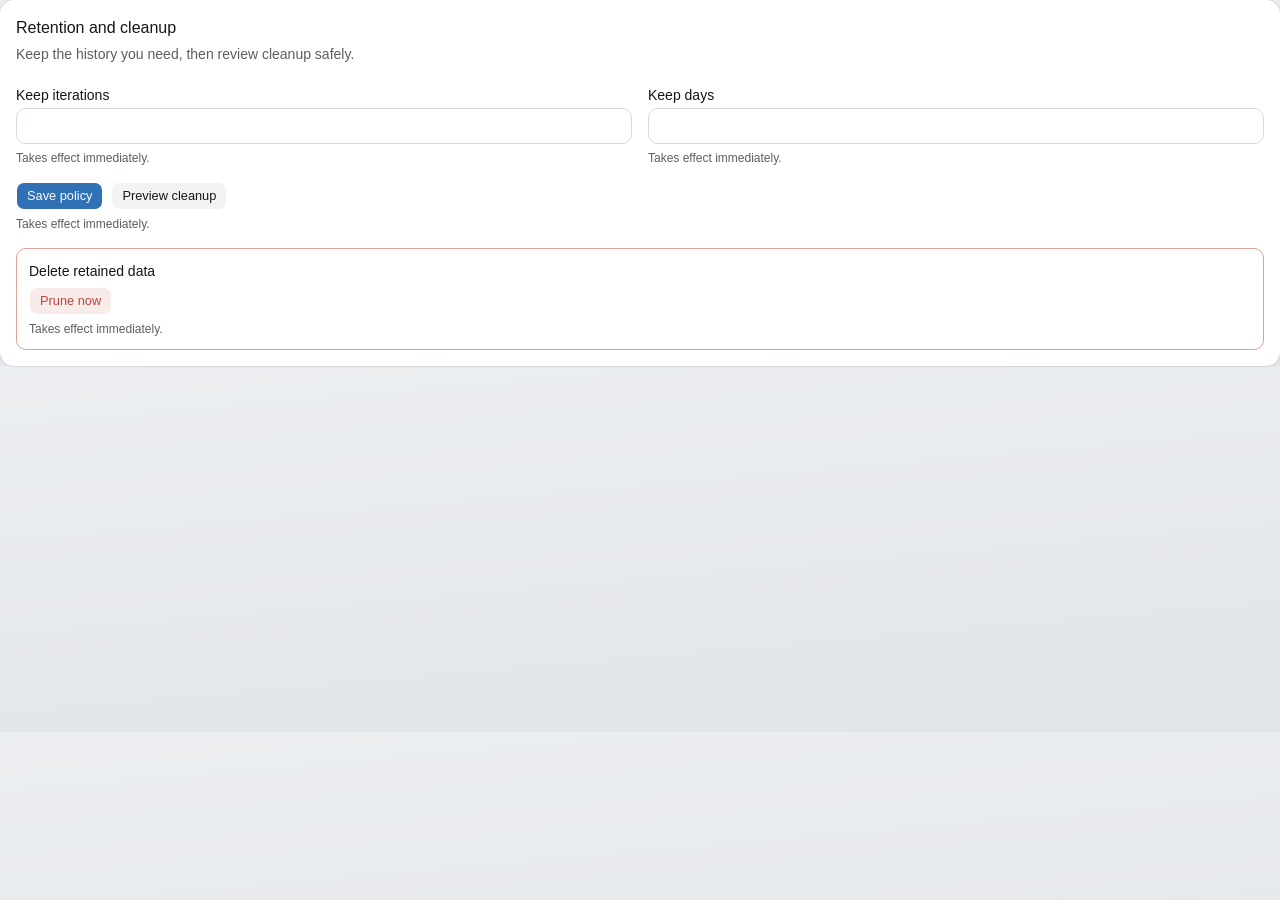
cancelling the prune confirmation writes nothing and unmounts the dialog
expect the text "Cancel" is not shown: met
Click the button "Prune now" at (71, 301), box [29, 287, 112, 315]
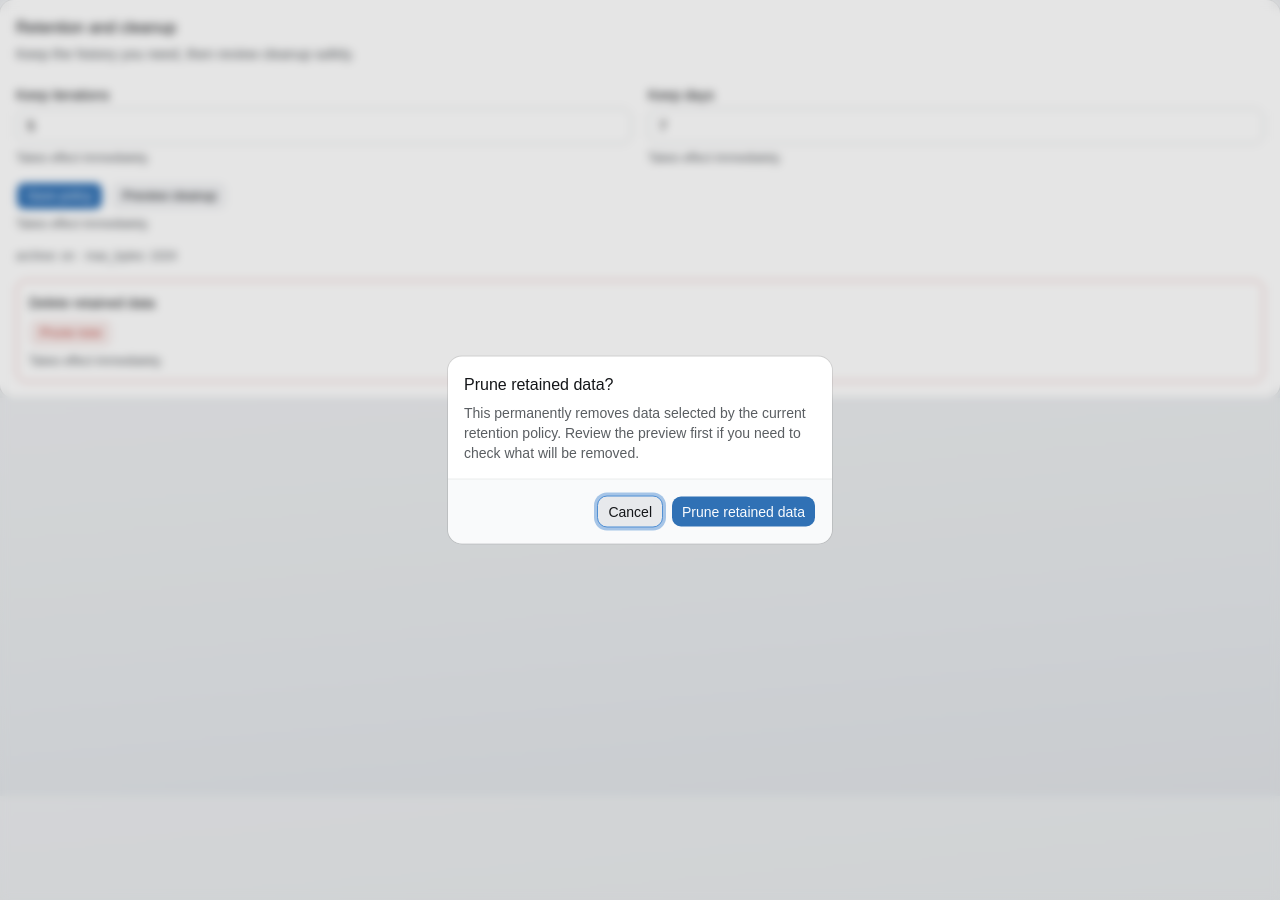
Click the button "Cancel" at (630, 512), box [597, 496, 663, 528]
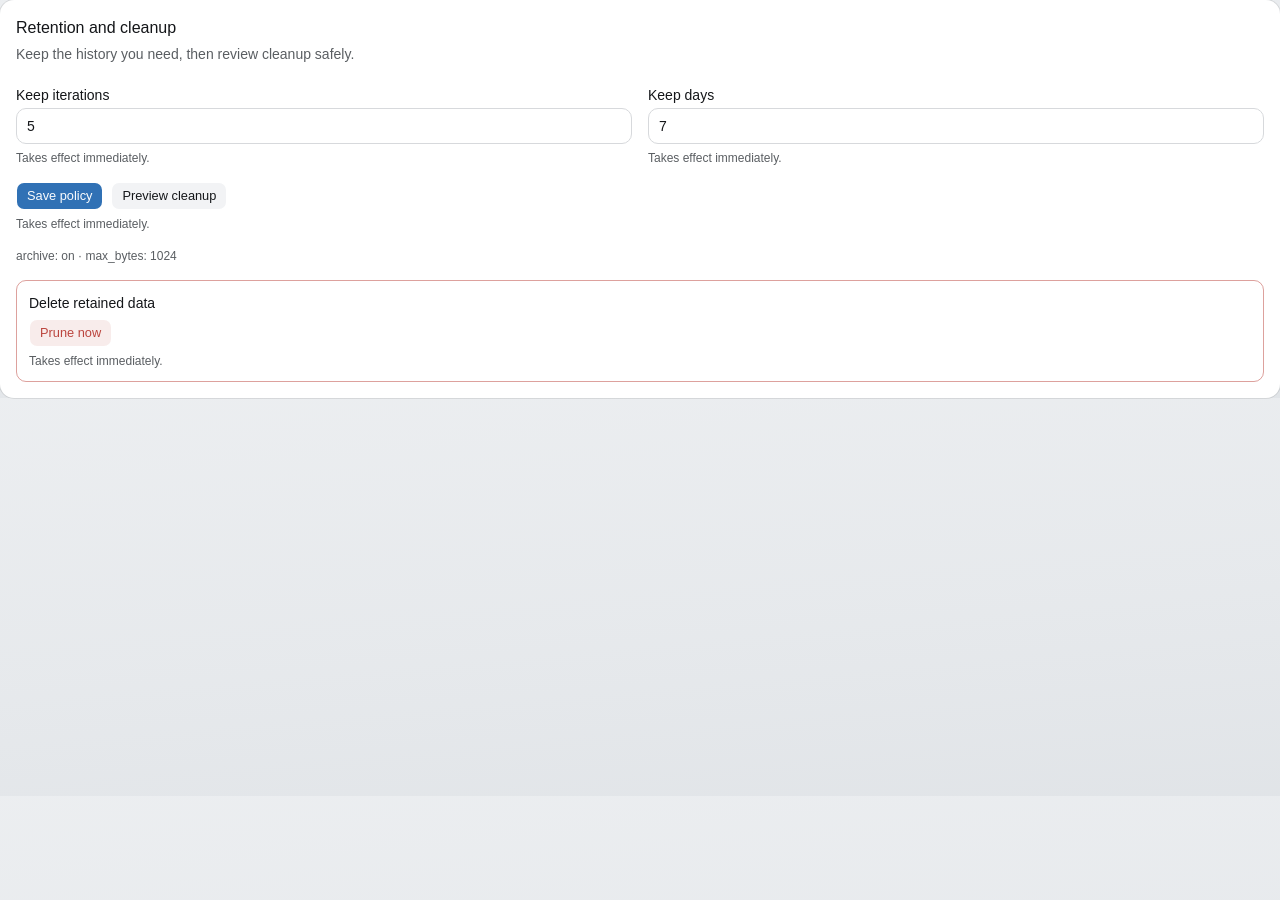
expect the heading "Prune retained data?" is gone: met
expect the heading "Prune retained data" is gone: met
